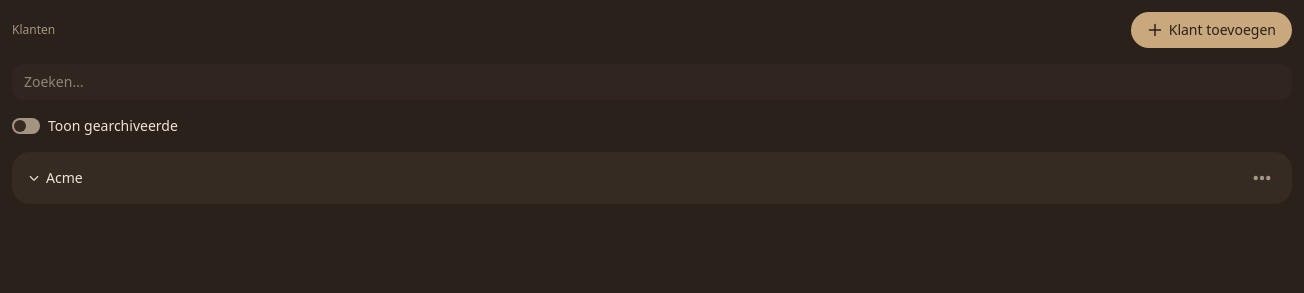
the accordion › reveals a client's projects when opened
The width and height of the screenshot is (1304, 293).
What coordinates should you click on to do the following:
click the button "Acme"
I would click on:
 (55, 178)
Its box is [28,168,83,188].
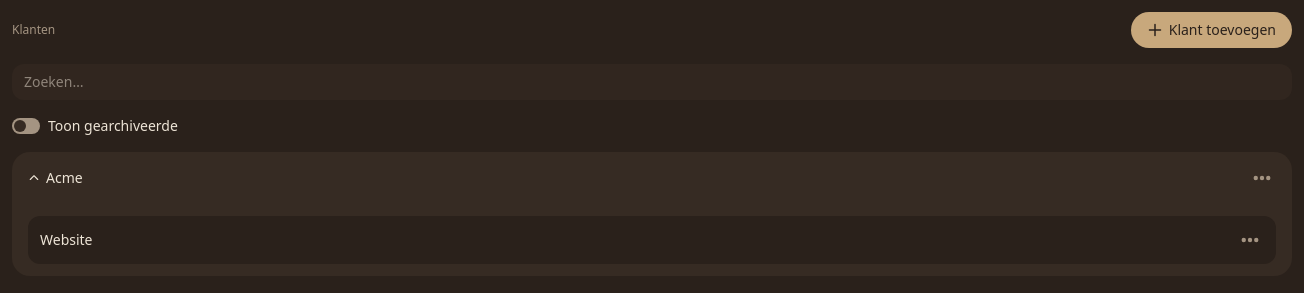
Now the text "Website" is shown, box [40,230,92,250]
